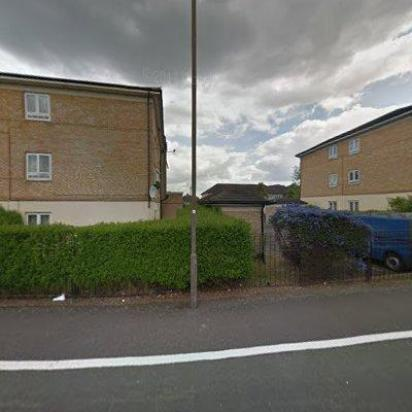stationary-light-truck-onstreet: (326, 211, 412, 271)
